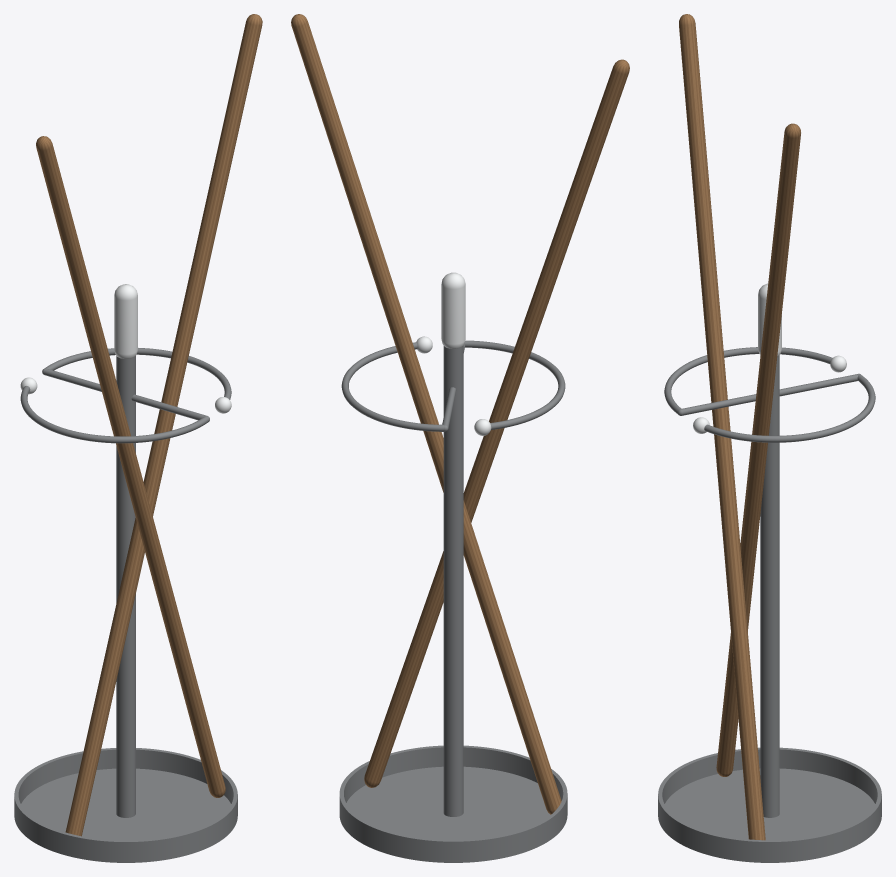
File: plopdrobe-stand.glb
3 views of the same model, side by side, from view 1: azimuth 30°, elevation 25°; view 2: azimuth 150°, elevation 25°; view 3: azimuth 270°, elevation 25° (orthographic). The views are drawn at different scales.
Visible parts, largest first — view 1: Sharp_edge_tray, Rod_Right_Oak, Rod_Left_Oak, Steel upright, White upright cap, Left_open_arc, Right_open_arc, Left_straight_connector; view 2: Sharp_edge_tray, Rod_Right_Oak, Rod_Left_Oak, Steel upright, White upright cap, Right_open_arc, Left_open_arc; view 3: Sharp_edge_tray, Rod_Left_Oak, Rod_Right_Oak, Steel upright, Right_open_arc, Left_open_arc, Right_straight_connector, Left_straight_connector, White upright cap.
Part boxes in pixels (bbox=[...]): Sharp_edge_tray: bbox=[14, 748, 237, 862]; Rod_Right_Oak: bbox=[65, 14, 262, 836]; Rod_Left_Oak: bbox=[36, 136, 225, 797]; Steel upright: bbox=[116, 356, 135, 817]; White upright cap: bbox=[114, 284, 137, 358]; Left_open_arc: bbox=[20, 386, 209, 443]; Right_open_arc: bbox=[45, 348, 231, 399]; Left_straight_connector: bbox=[131, 394, 206, 420]; Sharp_edge_tray: bbox=[339, 745, 567, 862]; Rod_Right_Oak: bbox=[291, 14, 561, 814]; Rod_Left_Oak: bbox=[364, 59, 629, 787]; Steel upright: bbox=[443, 345, 463, 816]; White upright cap: bbox=[441, 272, 465, 348]; Right_open_arc: bbox=[341, 342, 444, 431]; Left_open_arc: bbox=[464, 340, 565, 429]; Sharp_edge_tray: bbox=[658, 747, 881, 862]; Rod_Left_Oak: bbox=[679, 14, 765, 840]; Rod_Right_Oak: bbox=[716, 123, 800, 776]; Steel upright: bbox=[760, 355, 779, 817]; Right_open_arc: bbox=[704, 374, 875, 442]; Left_open_arc: bbox=[664, 347, 832, 413]; Right_straight_connector: bbox=[779, 374, 858, 396]; Left_straight_connector: bbox=[681, 394, 756, 415]; White upright cap: bbox=[758, 283, 781, 356].
Bounding box in the file's own units: 0.4585 × 1.2 × 0.32.
Materials: 3 (1 with a texture image).
